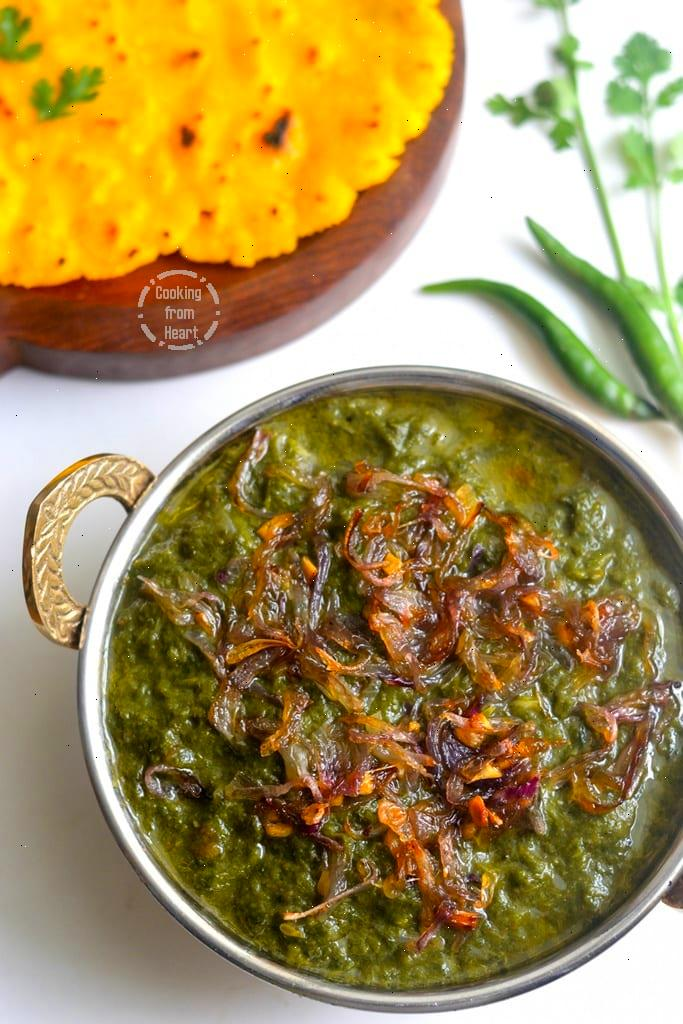saag: (106, 386, 683, 997)
